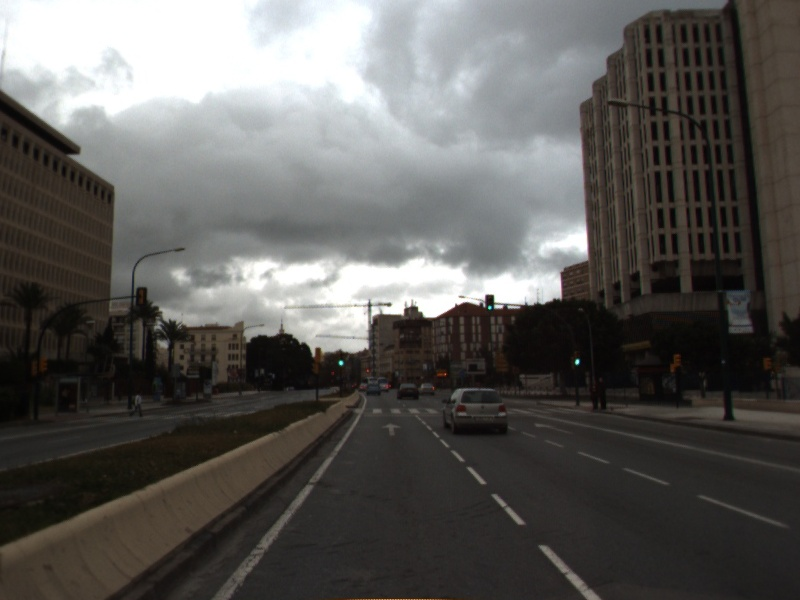STRAIGHT: (532, 420, 577, 437), (379, 421, 403, 437)
